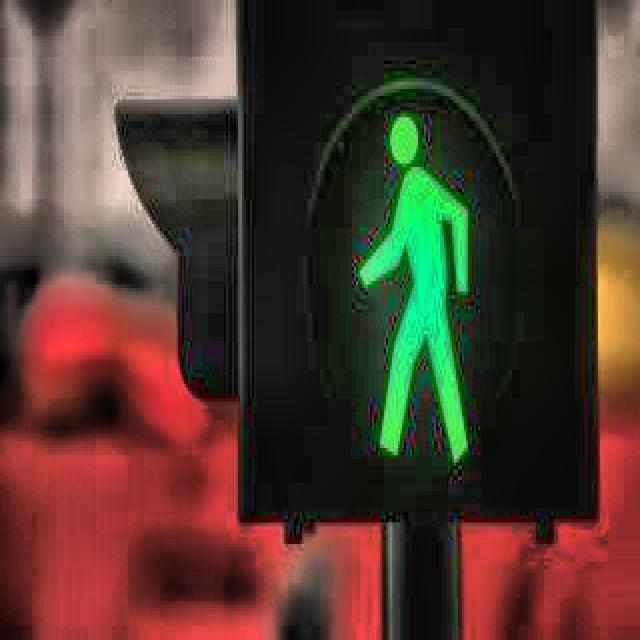green_light: (356, 109, 476, 478)
